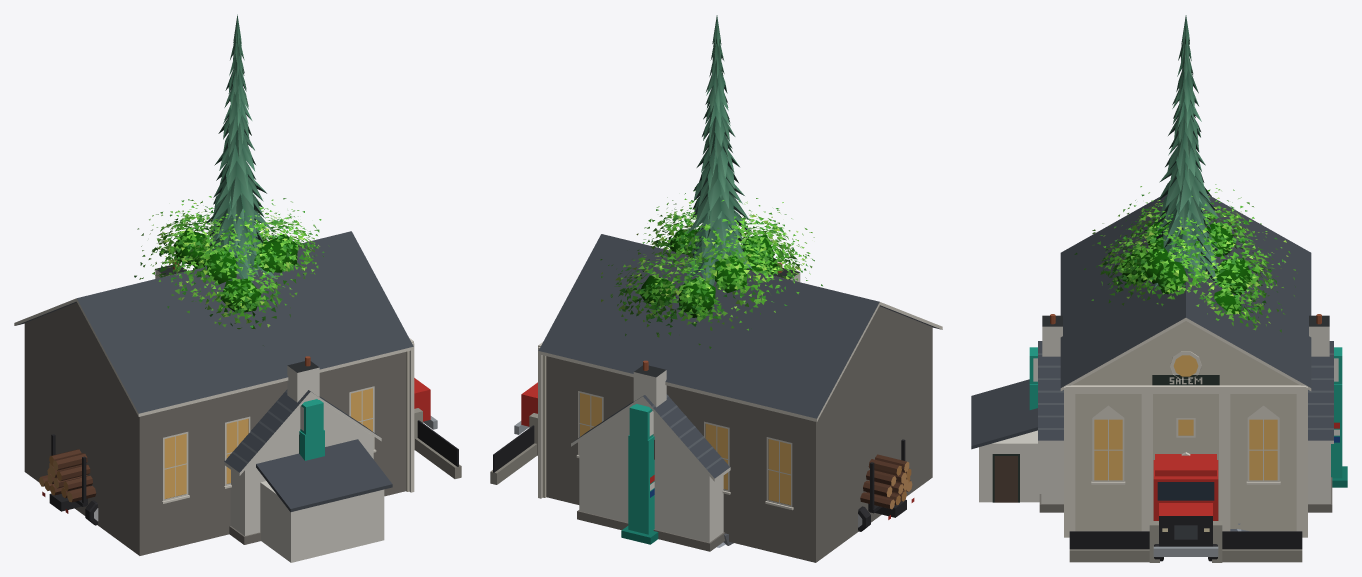
Rendered from env_wales.glb.
The picture shows the model from 3 angles, left to right: view 1: azimuth 30°, elevation 25°; view 2: azimuth 150°, elevation 25°; view 3: azimuth 270°, elevation 25°; orthographic projection.
Visible parts, largest first — view 1: SM_Chapel_WA, SM_Cottage_WA, SM_Broadleaf_A, SM_Spruce_C, SM_LogTruck, SM_FinishArch; view 2: SM_Chapel_WA, SM_Cottage_WA, SM_Broadleaf_A, SM_Spruce_C, SM_FinishArch, SM_LogTruck; view 3: SM_Chapel_WA, SM_Cottage_WA, SM_Broadleaf_A, SM_Spruce_C, SM_LogTruck, SM_FinishArch.
Boxes of the visible parts, box(x1,y1,x2,y2) form: SM_Chapel_WA: box(14, 231, 461, 555); SM_Cottage_WA: box(155, 260, 392, 562); SM_Broadleaf_A: box(134, 196, 329, 345); SM_Spruce_C: box(205, 14, 276, 282); SM_LogTruck: box(39, 378, 437, 525); SM_FinishArch: box(299, 399, 324, 460); SM_Chapel_WA: box(490, 234, 942, 562); SM_Cottage_WA: box(571, 262, 800, 551); SM_Broadleaf_A: box(600, 187, 822, 348); SM_Spruce_C: box(683, 15, 752, 285); SM_FinishArch: box(621, 404, 658, 544); SM_LogTruck: box(514, 382, 914, 531); SM_Chapel_WA: box(1060, 194, 1311, 562); SM_Cottage_WA: box(971, 314, 1333, 512); SM_Broadleaf_A: box(1074, 184, 1297, 332); SM_Spruce_C: box(1154, 15, 1226, 288); SM_LogTruck: box(1153, 454, 1218, 561); SM_FinishArch: box(1029, 347, 1347, 487).
Bounding box in the file's own units: 16.63 × 20.14 × 14.55.
